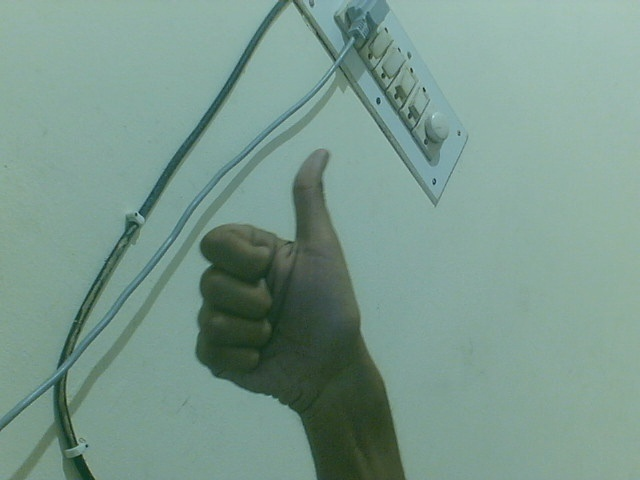hand: (192, 145, 377, 417)
